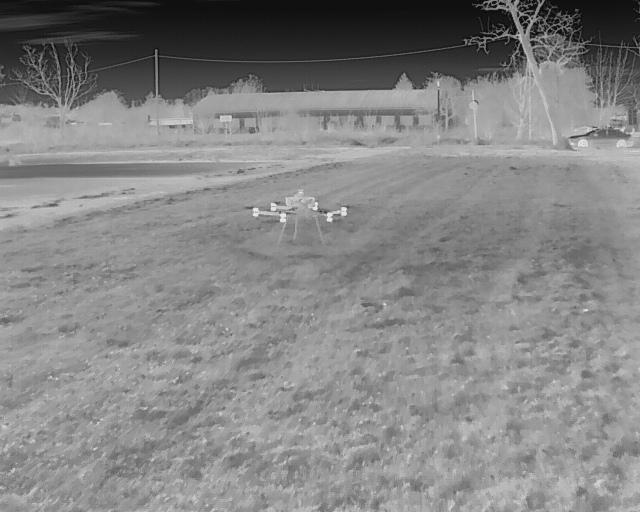drone: (240, 186, 363, 253)
